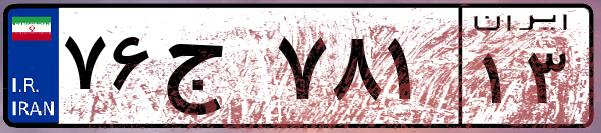1: (385, 28, 445, 110), (475, 38, 525, 113)
3: (525, 38, 570, 115)
6: (110, 28, 158, 98)
7: (270, 28, 330, 110), (57, 26, 110, 100)
8: (330, 28, 385, 110)
ج: (158, 20, 270, 120)
